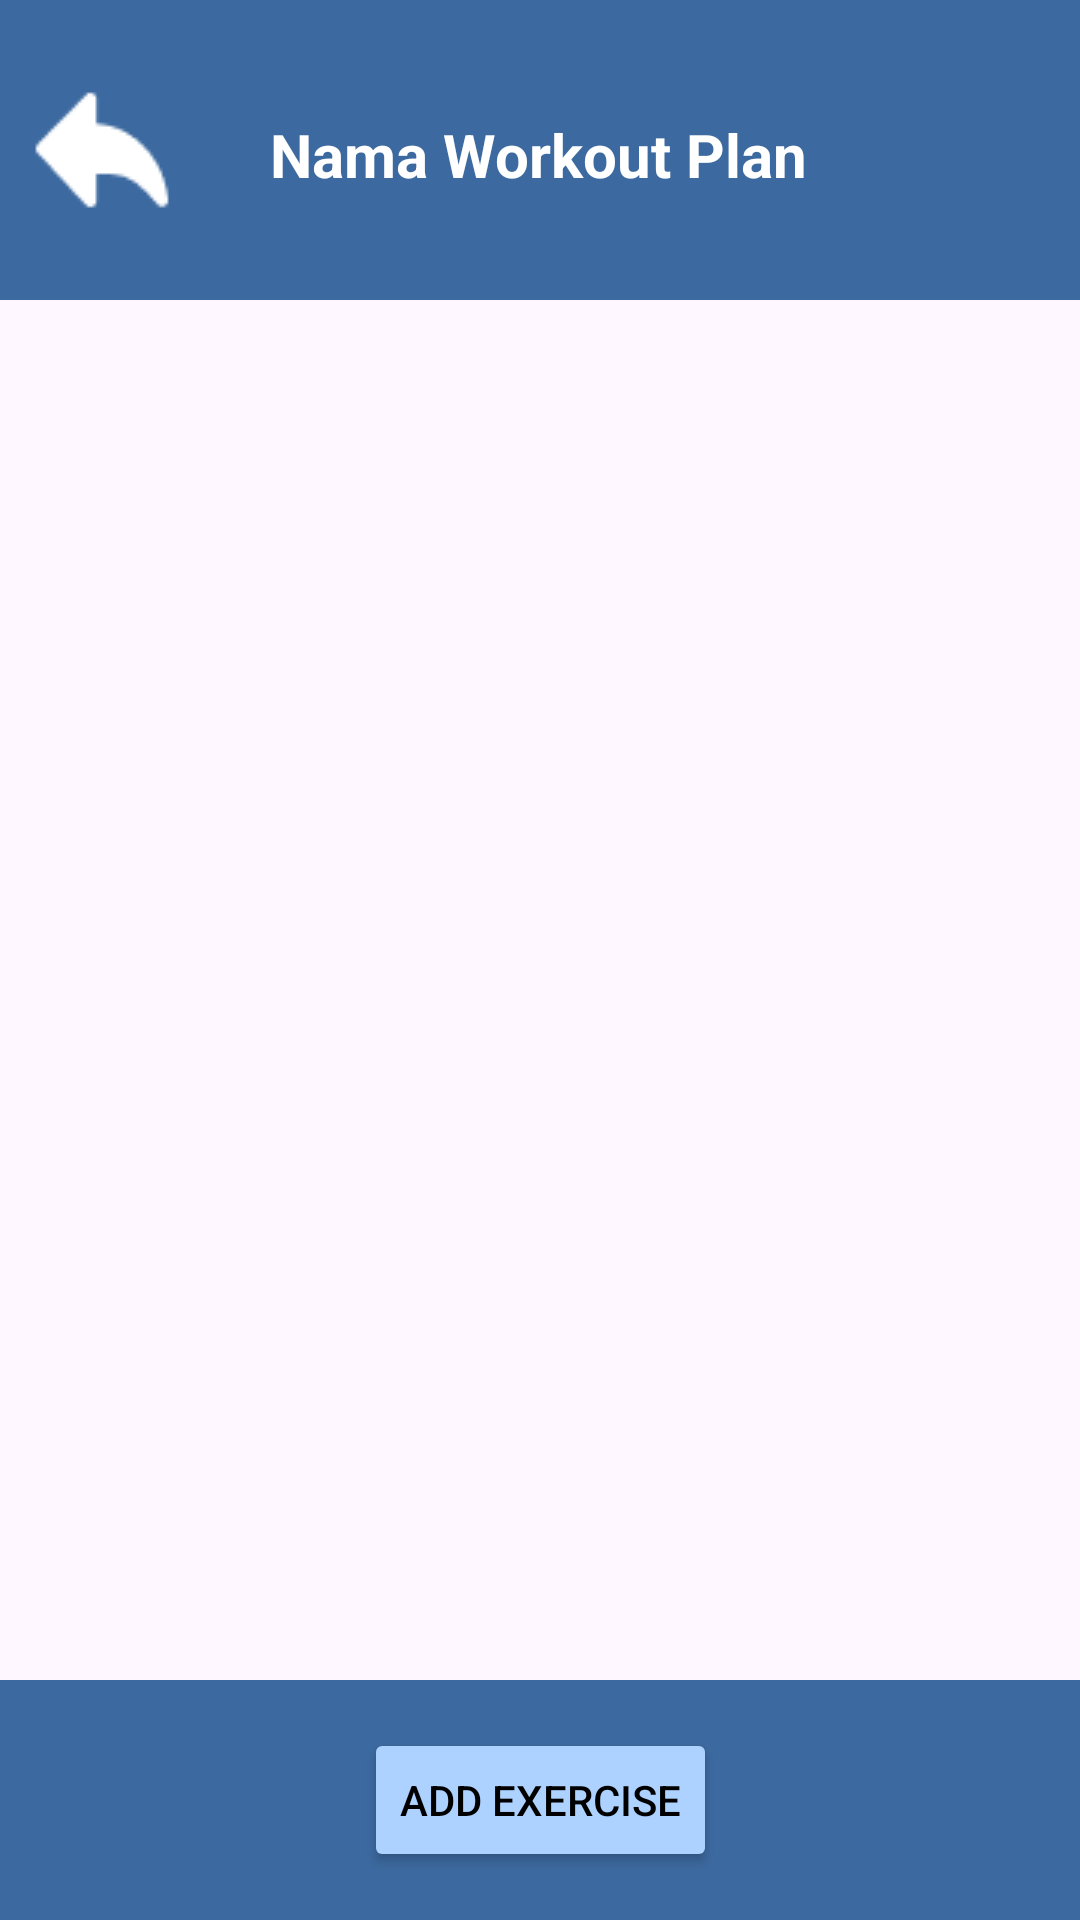

Named icons in this screenshot (1080 x 1920) and their bounding boxes, (x1, y1, x2, y2):
backbutton: (35, 92, 169, 208)
